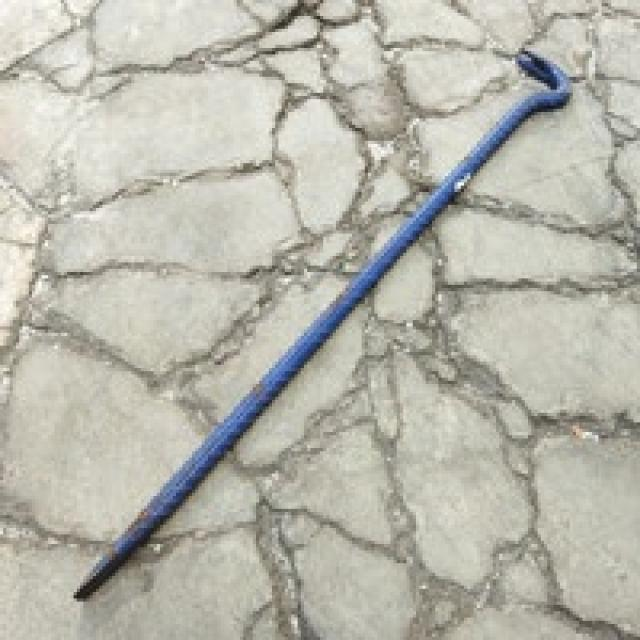Linggis: (77, 52, 573, 600)
